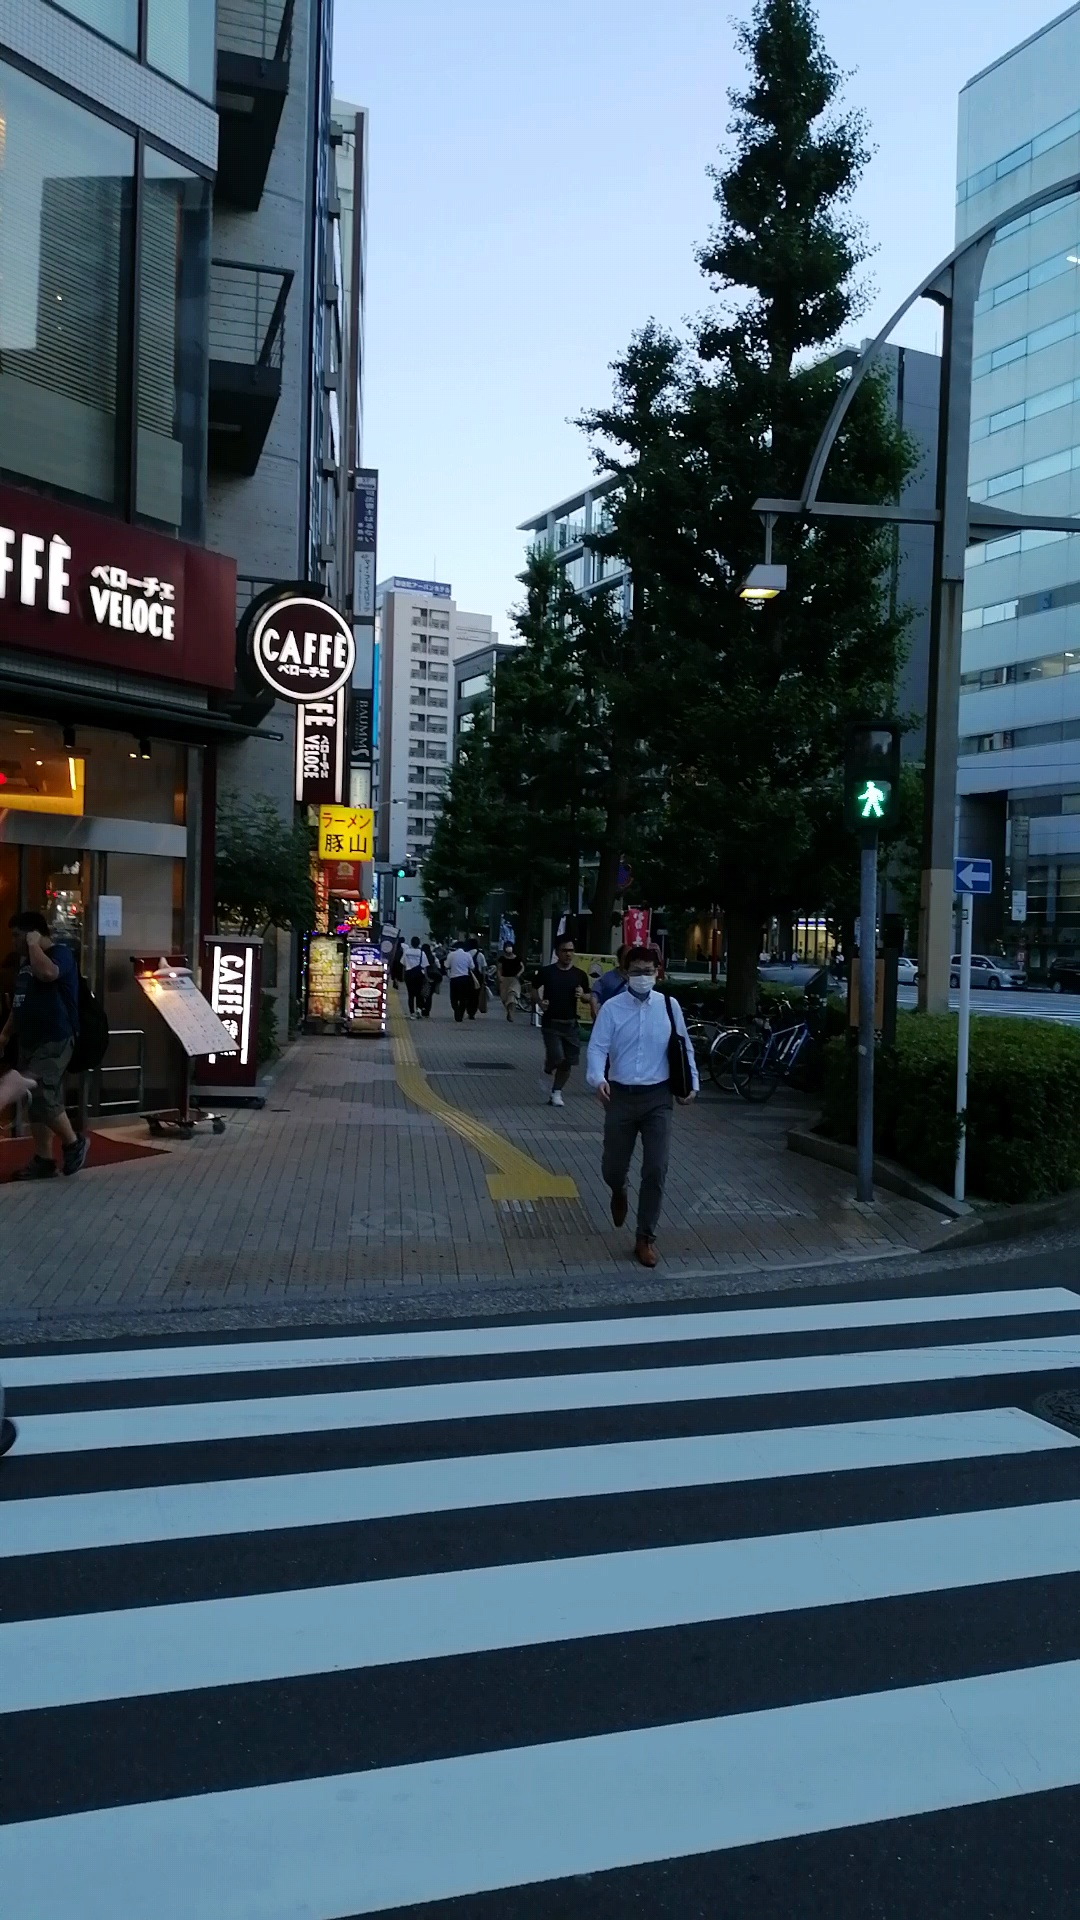green: (843, 721, 899, 836)
